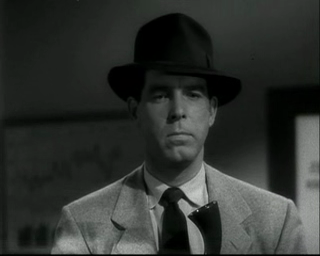cu: (1, 1, 320, 256)
face: (144, 70, 206, 165)
person: (50, 12, 308, 254)
